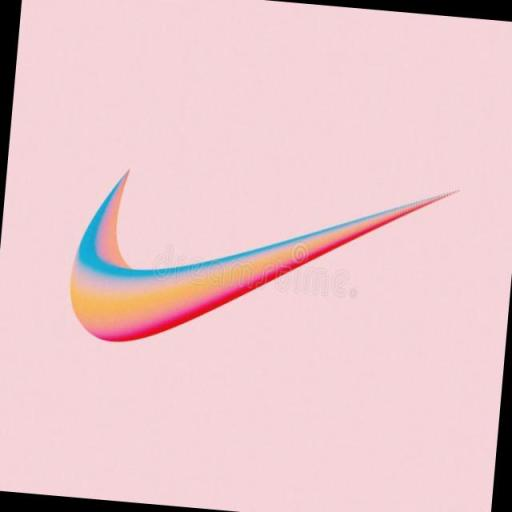Nike: (64, 156, 456, 370)
